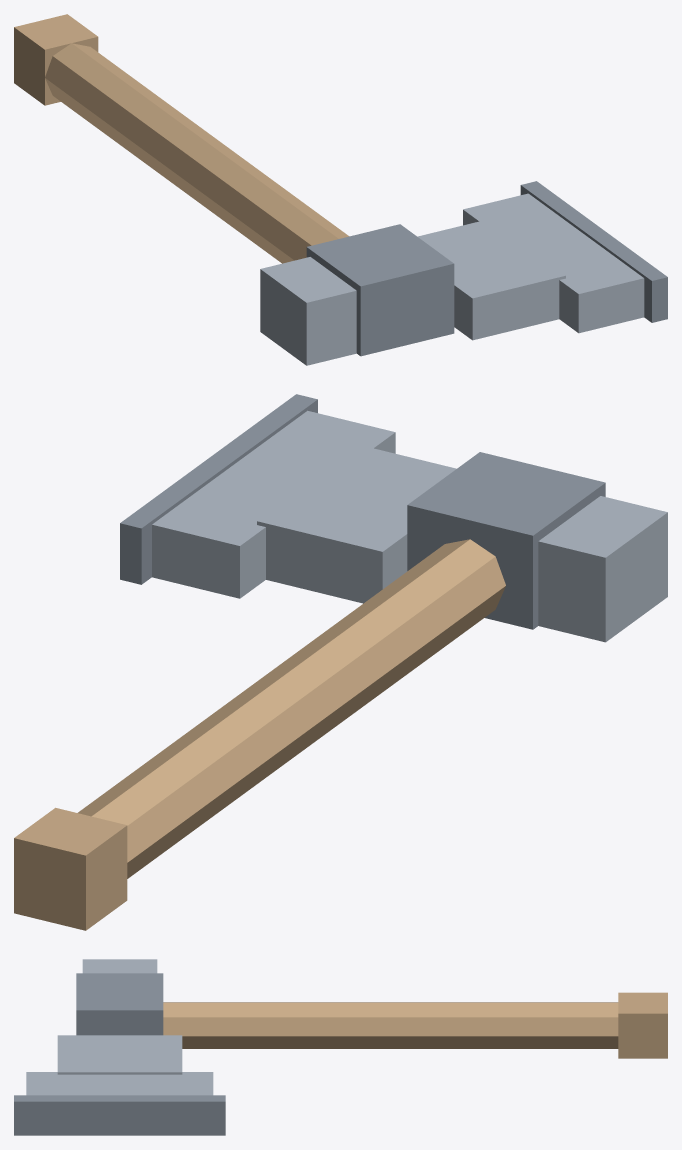
File: item_iron_axe.glb
The picture shows the model from 3 angles, top to bottom: view 1: azimuth 30°, elevation 25°; view 2: azimuth 150°, elevation 25°; view 3: azimuth 270°, elevation 25°; orthographic projection. The views are drawn at different scales.
Visible parts, largest first — view 1: iron, wood, iron_dark; view 2: iron, wood, iron_dark; view 3: wood, iron_dark, iron.
Boxes of the visible parts, x1,y1,x2,y2 form: iron: [260, 193, 644, 365]; wood: [14, 14, 349, 263]; iron_dark: [306, 181, 667, 356]; iron: [152, 410, 667, 642]; wood: [14, 539, 505, 930]; iron_dark: [120, 394, 605, 629]; wood: [163, 992, 667, 1058]; iron_dark: [14, 973, 225, 1135]; iron: [26, 959, 213, 1095].
Size of the model in its own units: 0.2385 by 0.05 by 0.525.
